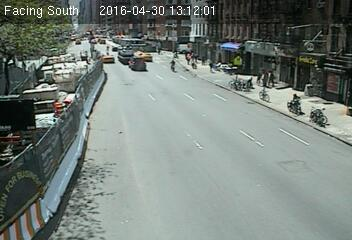neg: (62, 134, 81, 160), (175, 132, 190, 152), (309, 104, 322, 122), (167, 56, 180, 73), (102, 44, 114, 59), (135, 56, 146, 71), (153, 39, 164, 54), (209, 5, 220, 19), (36, 29, 45, 41), (87, 30, 96, 42)
pos: (268, 69, 279, 85), (260, 73, 271, 87), (208, 59, 217, 72), (256, 71, 264, 83), (201, 56, 208, 65)
